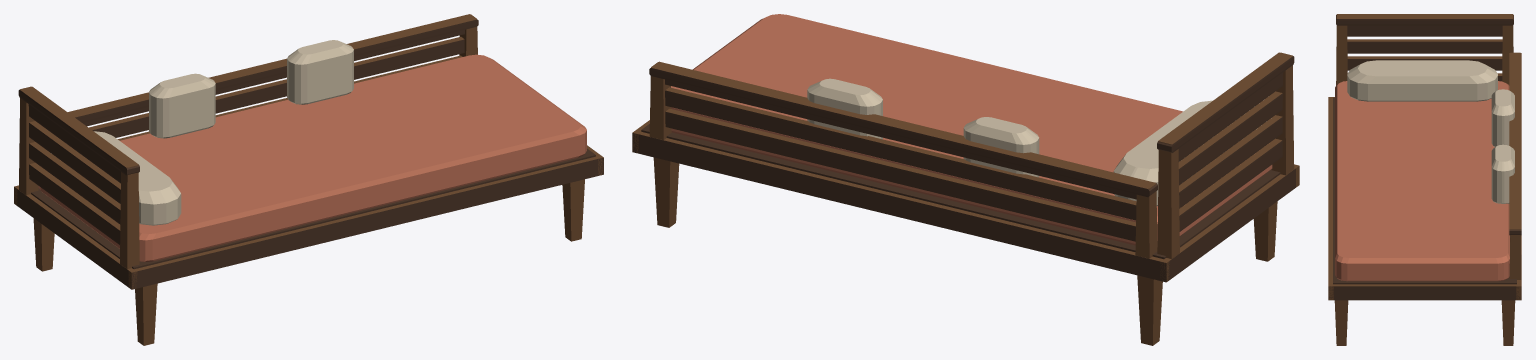
File: FN_Sofa_Daybed.obj
The picture shows the model from 3 angles, left to right: view 1: azimuth 30°, elevation 25°; view 2: azimuth 150°, elevation 25°; view 3: azimuth 270°, elevation 25°; orthographic projection. The views are drawn at different scales.
Visible parts, largest first — view 1: FN_Sofa_Daybed; view 2: FN_Sofa_Daybed; view 3: FN_Sofa_Daybed.
Boxes of the visible parts, x1,y1,x2,y2 form: FN_Sofa_Daybed: (14, 14, 603, 345); FN_Sofa_Daybed: (632, 14, 1299, 345); FN_Sofa_Daybed: (1328, 14, 1521, 345).
Size of the model in its own units: 1.9 by 0.7 by 0.82.
Materials: 1 (1 with a texture image).
